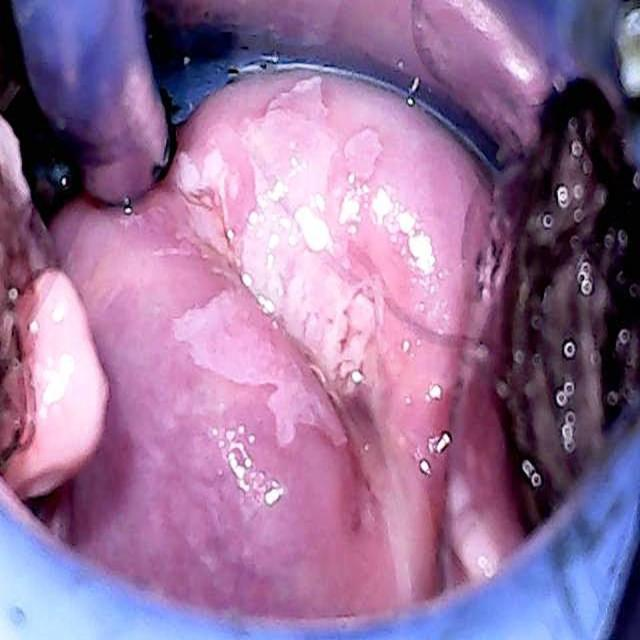cervical_lesion: (0, 60, 505, 613)
